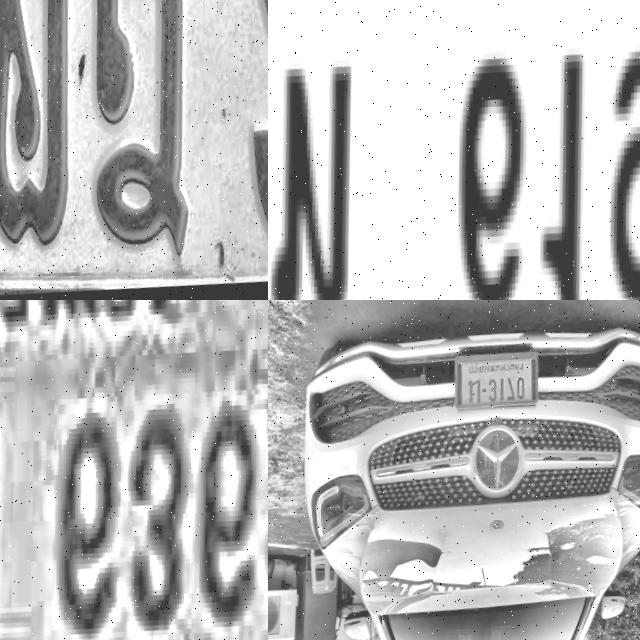license-plate: (268, 0, 640, 300), (0, 300, 268, 640), (0, 0, 268, 300), (449, 354, 536, 427)
